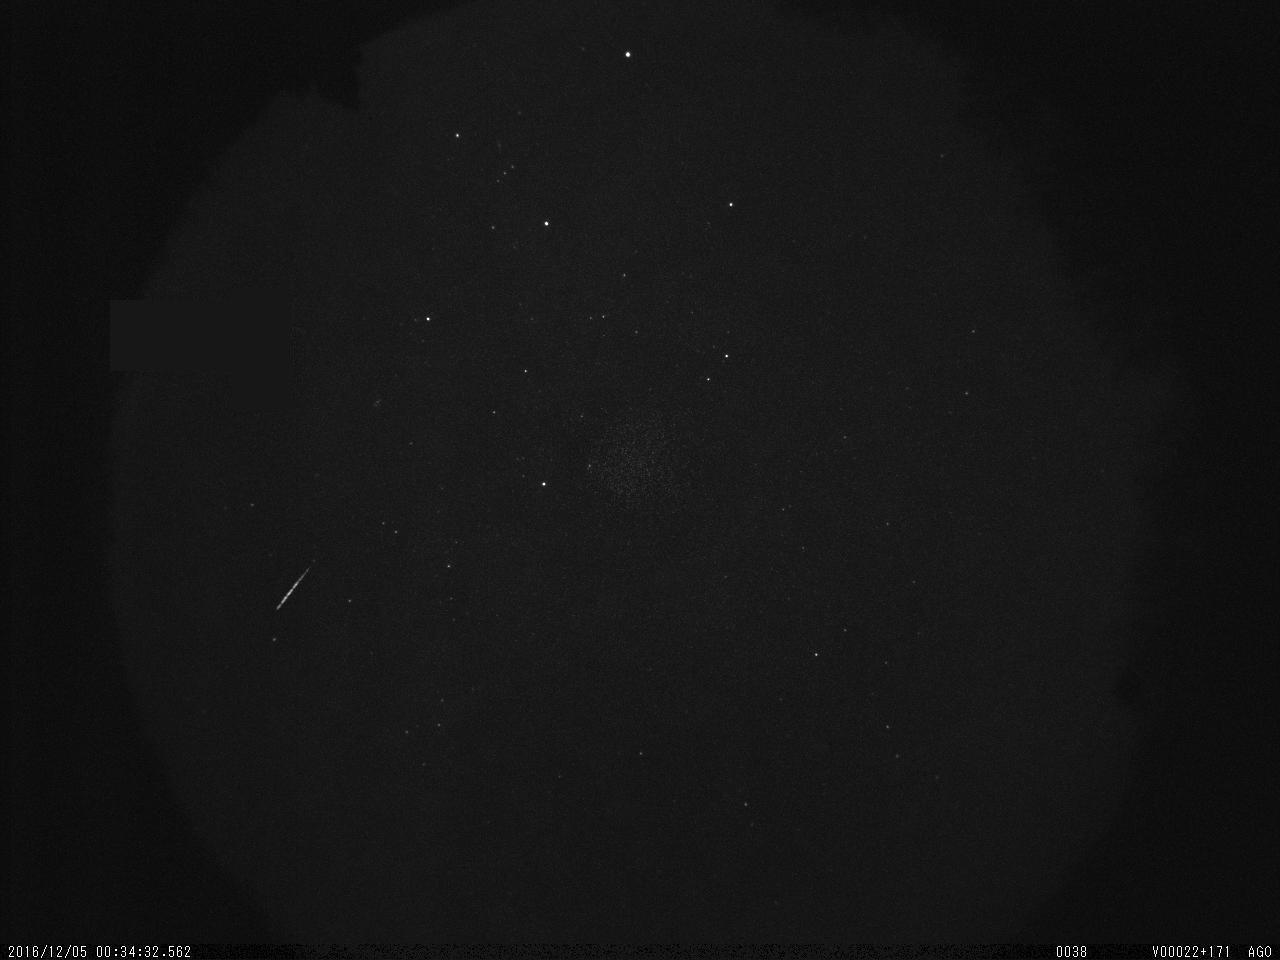Meteor: (274, 556, 316, 616)
